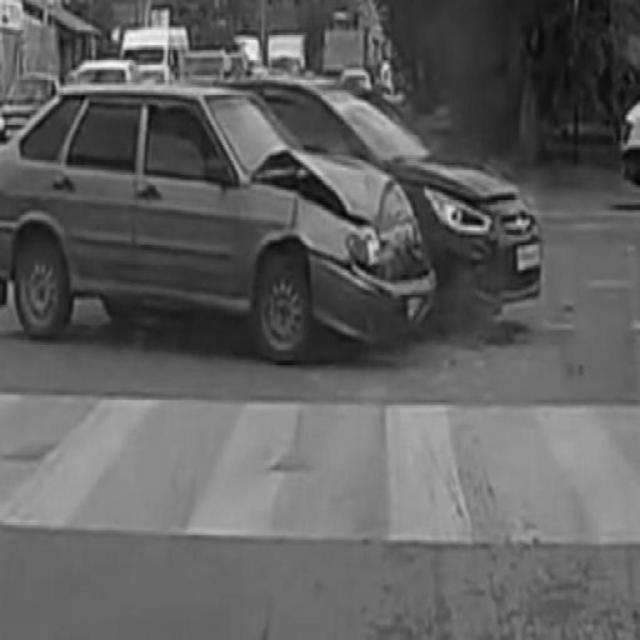accident: (0, 83, 542, 359)
